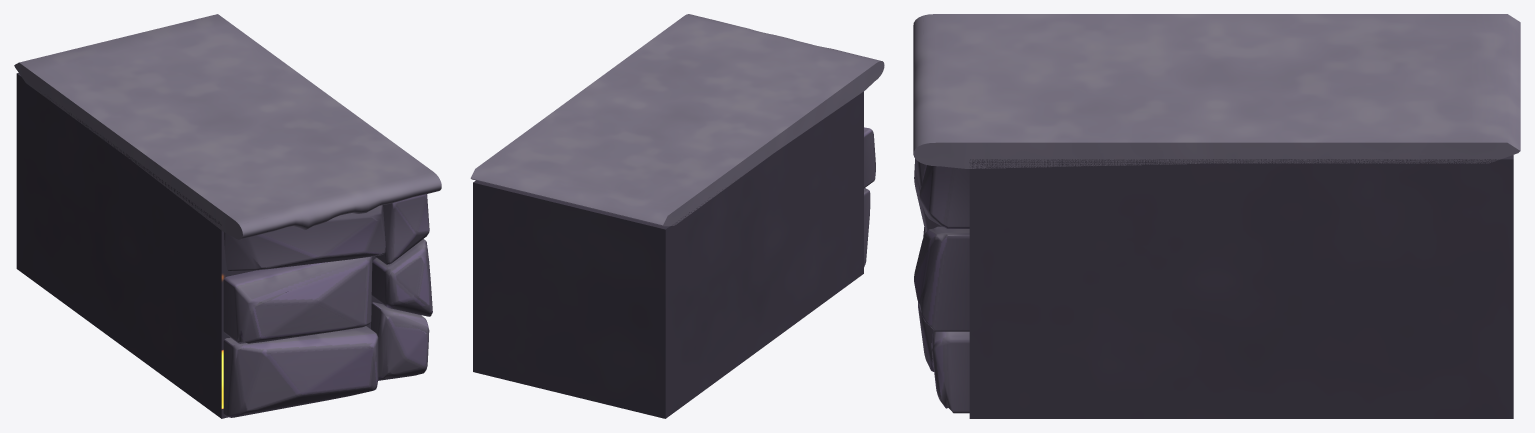
File: EF_T01_CooledBasaltCore.fbx
3 views of the same model, side by side, from view 1: azimuth 30°, elevation 25°; view 2: azimuth 150°, elevation 25°; view 3: azimuth 270°, elevation 25° (orthographic). The views are drawn at different scales.
Parts seen in each view (by area): view 1: Rock, Crust; view 2: Rock, Crust; view 3: Rock, Crust.
Part boxes in pixels (<box>): Rock: <box>16,73,432,418</box>; Crust: <box>14,14,441,239</box>; Rock: <box>473,91,875,418</box>; Crust: <box>470,14,884,226</box>; Rock: <box>914,155,1513,418</box>; Crust: <box>913,14,1520,168</box>.
Bounding box in the file's own units: 2 × 2 × 3.99.
